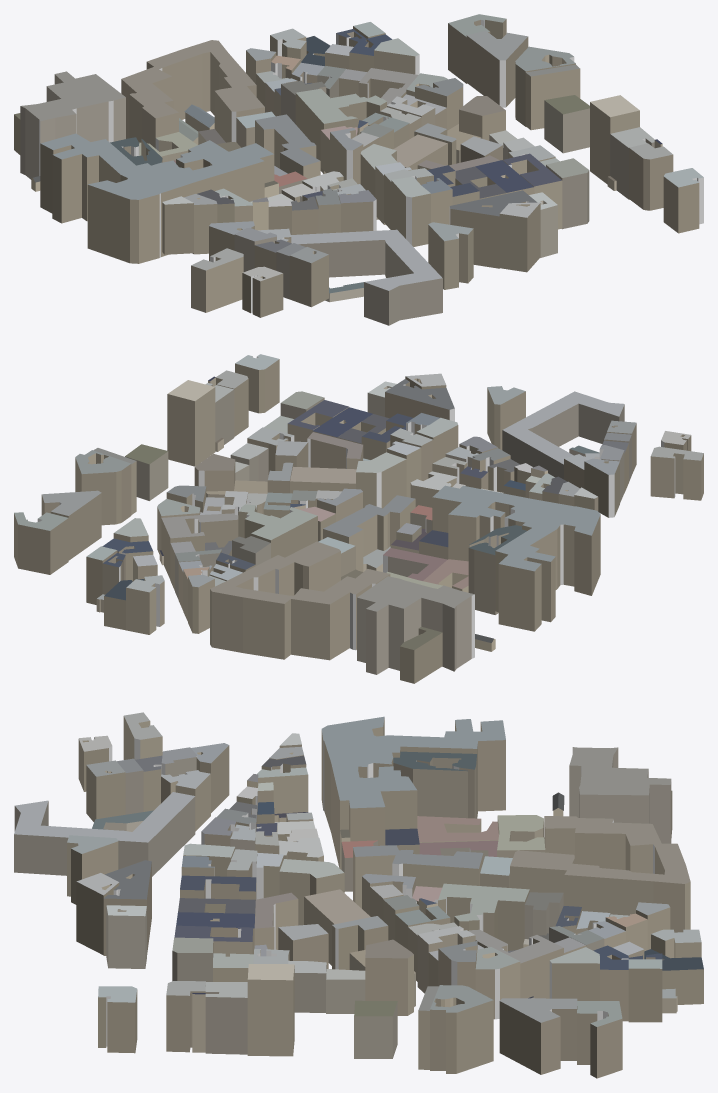
The picture shows the model from 3 angles, top to bottom: view 1: azimuth 30°, elevation 25°; view 2: azimuth 150°, elevation 25°; view 3: azimuth 270°, elevation 25°; orthographic projection. The views are drawn at different scales.
Parts seen in each view (by area): view 1: tuile; view 2: tuile; view 3: tuile.
Boxes of the visible parts, <box> form: tuile: <box>14,14,703,325</box>; tuile: <box>14,354,703,683</box>; tuile: <box>14,712,703,1078</box>.
Bounding box in the file's own units: 277 × 42.43 × 289.
